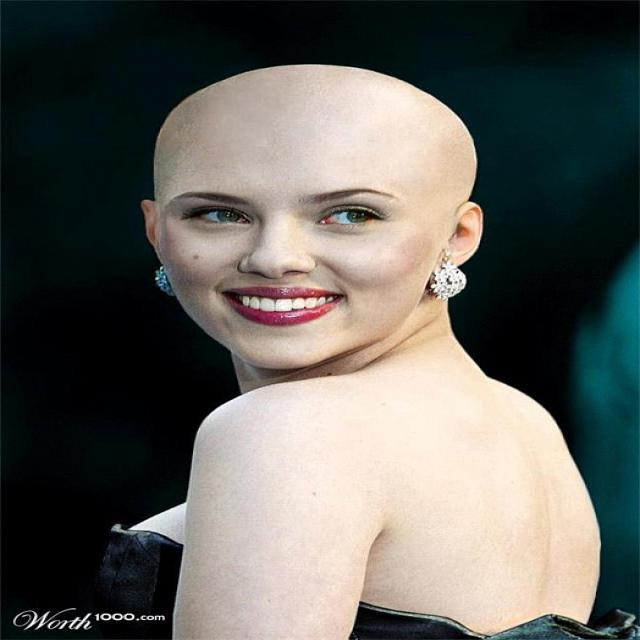no_helmet: (102, 50, 496, 239)
